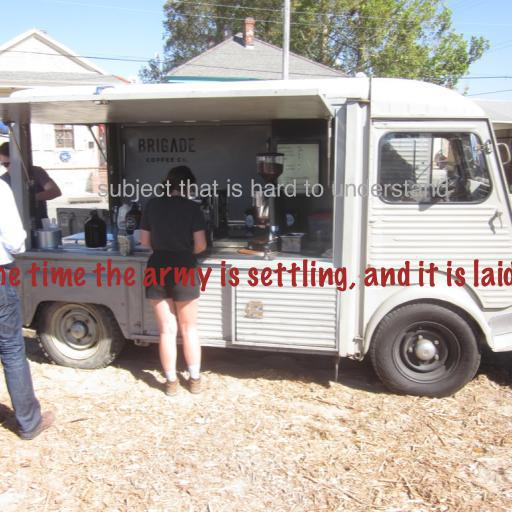Impact: (97, 179, 449, 202)
Marker Felt: (0, 258, 512, 292)
